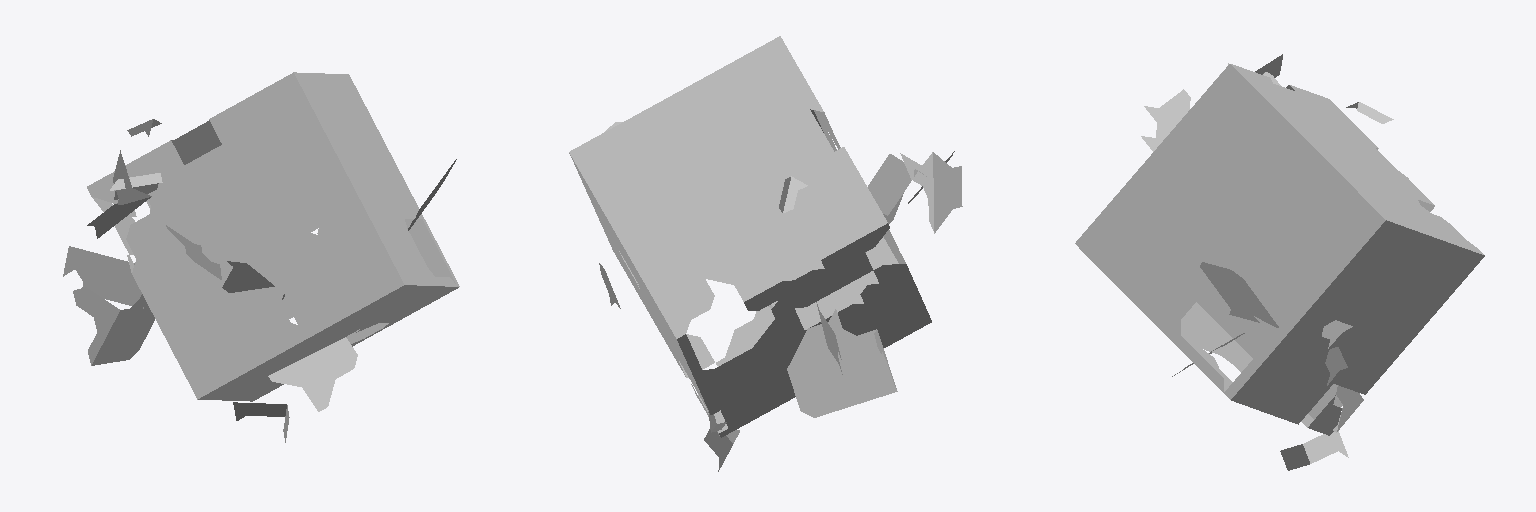
Rendered from explode_000019.obj.
3 views of the same model, side by side, from view 1: azimuth 30°, elevation 25°; view 2: azimuth 150°, elevation 25°; view 3: azimuth 270°, elevation 25° (orthographic).
Parts seen in each view (by area): view 1: Cube_Cube.001; view 2: Cube_Cube.001; view 3: Cube_Cube.001.
Part boxes in pixels (x1,y1,x2,y2): Cube_Cube.001: (63, 72, 459, 442); Cube_Cube.001: (569, 36, 962, 471); Cube_Cube.001: (1075, 54, 1484, 470).
Bounding box in the file's own units: 3.48 × 3.63 × 3.4.